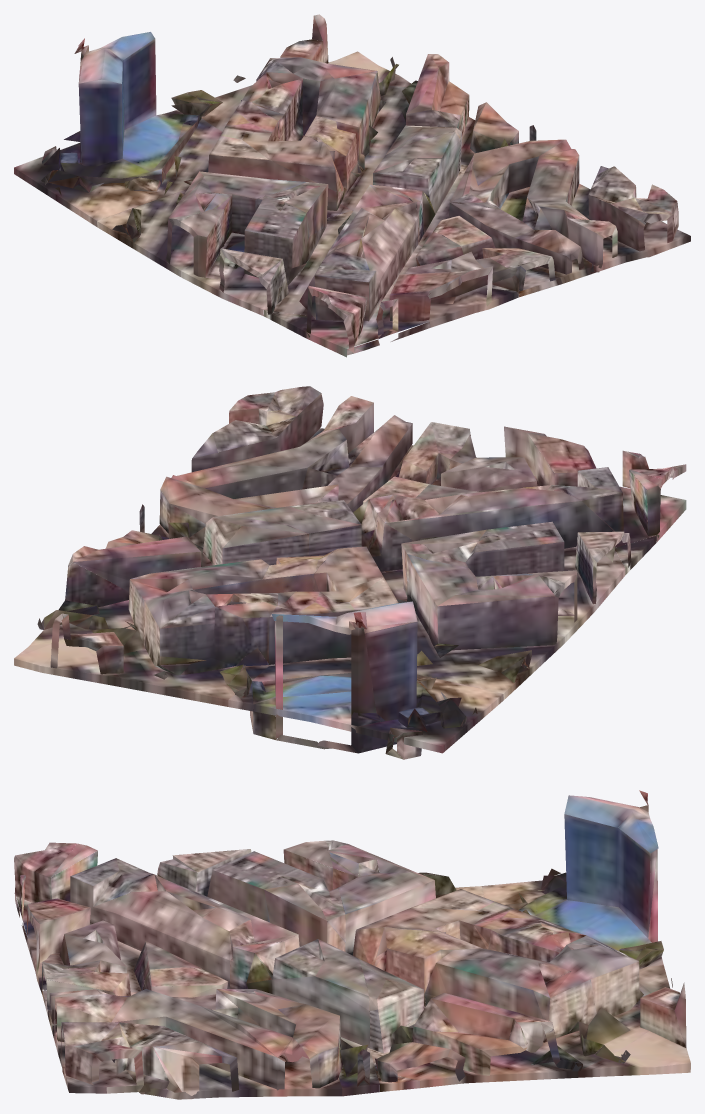
The picture shows the model from 3 angles, top to bottom: view 1: azimuth 30°, elevation 25°; view 2: azimuth 150°, elevation 25°; view 3: azimuth 270°, elevation 25°; orthographic projection. The views are drawn at different scales.
Parts seen in each view (by area): view 1: Mesh_0; view 2: Mesh_0; view 3: Mesh_0.
Boxes of the visible parts, x1,y1,x2,y2 form: Mesh_0: (14,14,690,357); Mesh_0: (14,386,686,759); Mesh_0: (14,790,690,1099).
Bounding box in the file's own units: 266 × 79.3 × 330.
2 materials, 2 textured.
